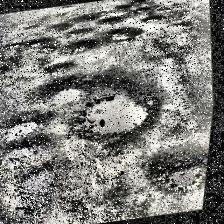pothole: (80, 83, 158, 142), (146, 143, 212, 197), (46, 72, 92, 111), (2, 118, 44, 144), (60, 36, 102, 58), (106, 24, 144, 44), (69, 11, 100, 25), (142, 14, 164, 24)
